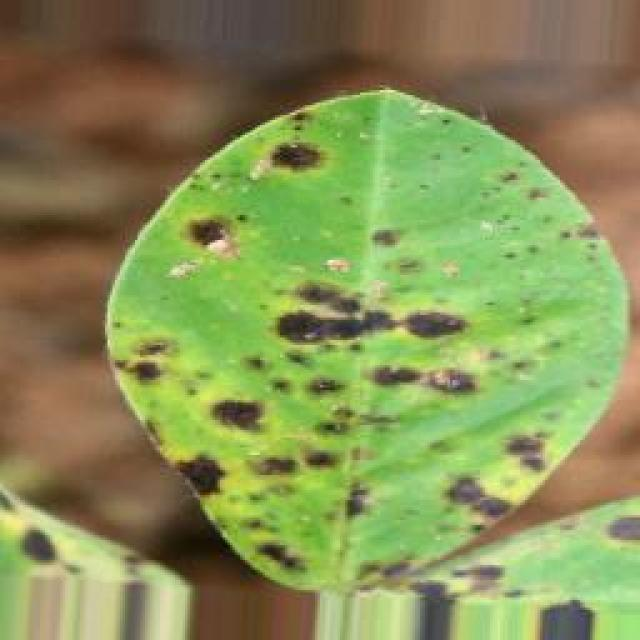Yellowish: (89, 81, 608, 599)
